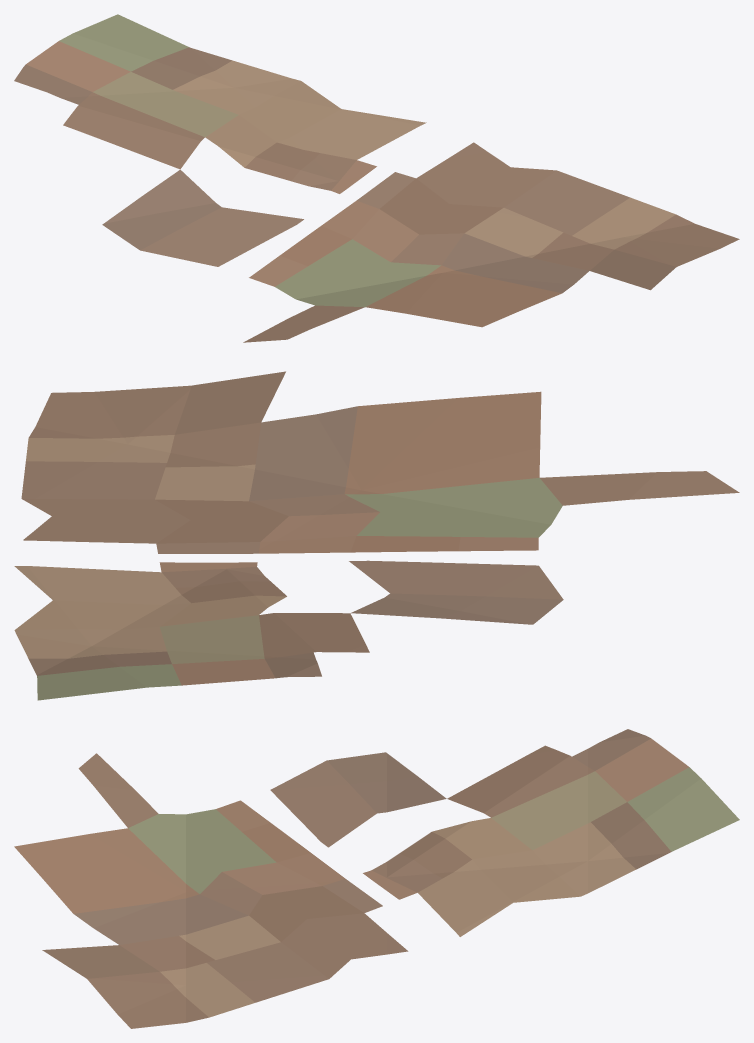
The model's file is farm_0_21_soil.glb.
The picture shows the model from 3 angles, top to bottom: view 1: azimuth 30°, elevation 25°; view 2: azimuth 150°, elevation 25°; view 3: azimuth 270°, elevation 25°; orthographic projection. The views are drawn at different scales.
Visible parts, largest first — view 1: geometry_0; view 2: geometry_0; view 3: geometry_0.
Part boxes in pixels (box(x1,y1,x2,y2)): geometry_0: box(14, 14, 739, 342); geometry_0: box(14, 371, 739, 700); geometry_0: box(14, 729, 739, 1028).
Size of the model in its own units: 228 by 36.78 by 289.
